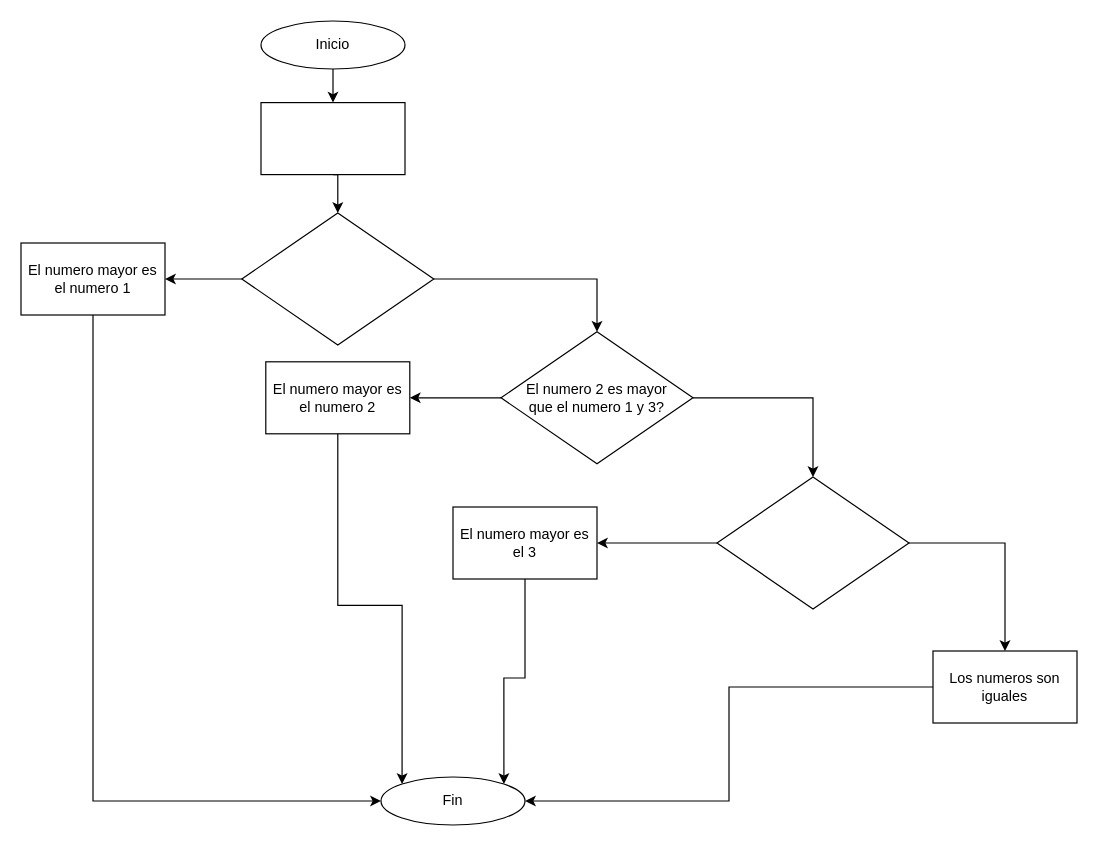
Image size: 1098x846. Some labels were removed from this diagram. The shapes that lost their labels are listed below. From the top down, each one's box as (x1, y1, x2, y2) in pixels, then its label:
(260, 101, 405, 175): Encontrar el mayor de 3 numeros
(241, 212, 434, 345): El numero 1 es mayor que el numero 2 y 3?
(716, 476, 909, 609): El numero 3 es mayor que el numero 1 y 2?
